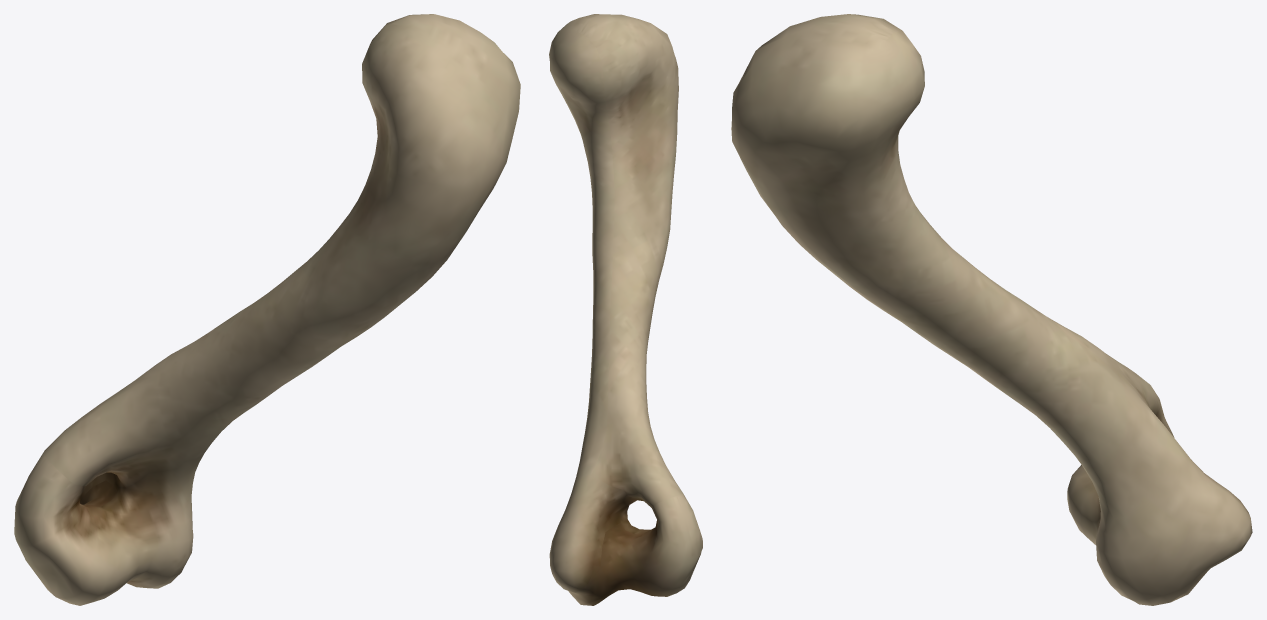
File: Humerus.glb
3 renders of one model, left to right at view 1: azimuth 30°, elevation 25°; view 2: azimuth 150°, elevation 25°; view 3: azimuth 270°, elevation 25°, orthographic. The views are drawn at different scales.
Parts seen in each view (by area): view 1: polySurface6; view 2: polySurface6; view 3: polySurface6.
Part boxes in pixels (x1,y1,x2,y2): polySurface6: (14,14,520,605); polySurface6: (549,14,702,605); polySurface6: (731,14,1252,605).
Size of the model in its own units: 60.48 by 109 by 79.54.
1 material, 1 textured.
